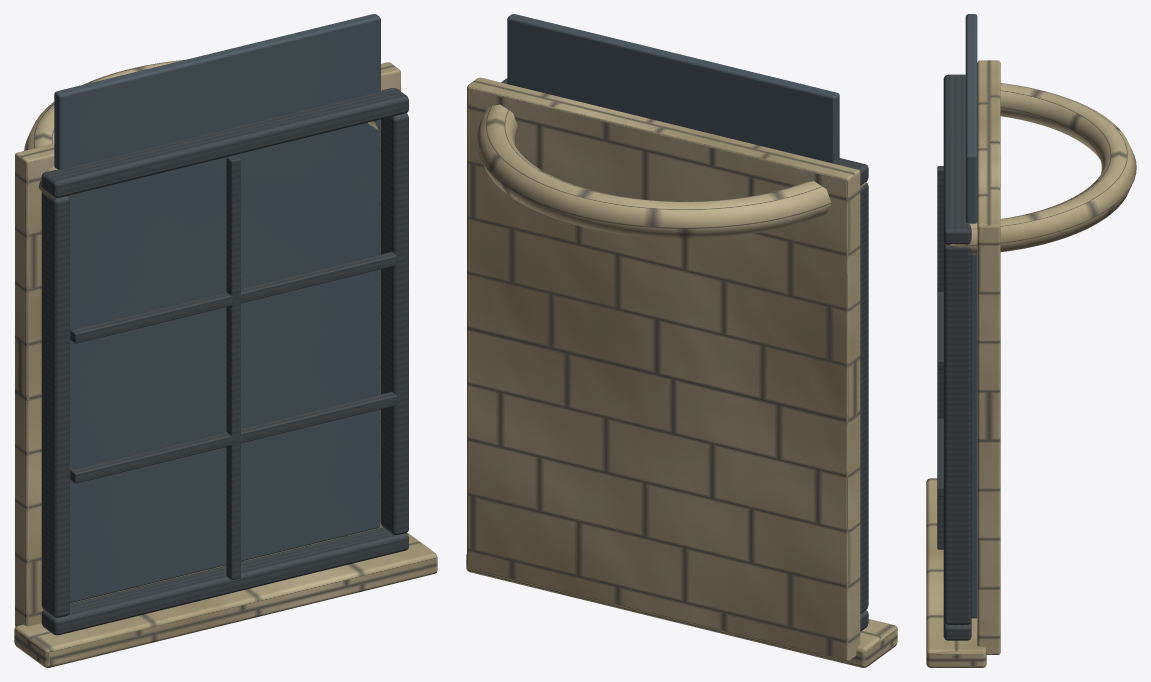
The model's file is window-arched-masonry.lod0.gltf.
3 views of the same model, side by side, from view 1: azimuth 30°, elevation 25°; view 2: azimuth 150°, elevation 25°; view 3: azimuth 270°, elevation 25° (orthographic). The views are drawn at different scales.
Parts seen in each view (by area): view 1: window-arched-masonry; view 2: window-arched-masonry; view 3: window-arched-masonry.
Part boxes in pixels (x1,y1,x2,y2): window-arched-masonry: (14,14,437,667); window-arched-masonry: (466,14,897,667); window-arched-masonry: (926,14,1136,667).
Bounding box in the file's own units: 1.77 × 2.37 × 0.905.
3 materials, 3 textured.
